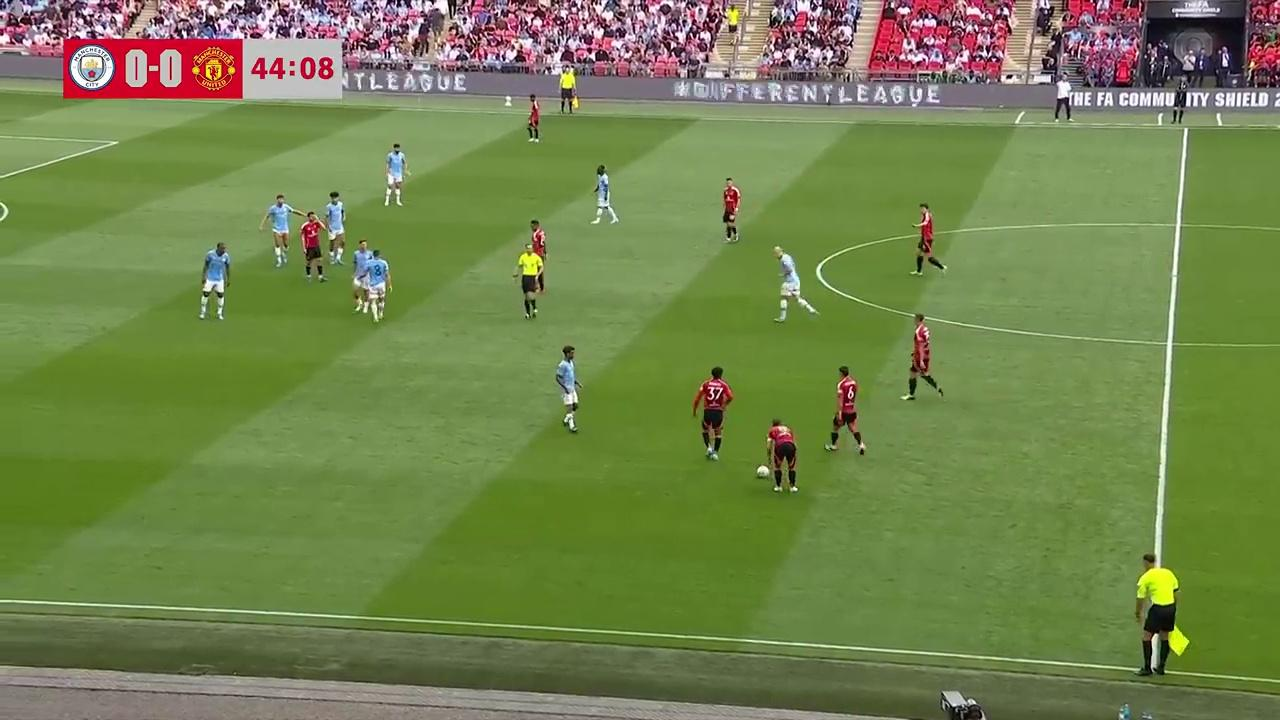ball: (755, 463, 771, 478)
player: (693, 366, 734, 461), (902, 314, 944, 401), (825, 366, 866, 455), (772, 246, 818, 322), (259, 193, 301, 267), (761, 418, 799, 494), (198, 241, 232, 321), (909, 203, 946, 276), (555, 344, 583, 432), (351, 239, 378, 315), (301, 209, 328, 283), (368, 242, 391, 321), (590, 164, 618, 225), (323, 190, 346, 264), (383, 143, 409, 207), (528, 219, 548, 282), (721, 177, 740, 242), (526, 92, 541, 142)
referee: (1134, 549, 1189, 676), (513, 245, 541, 319), (558, 66, 578, 115)
